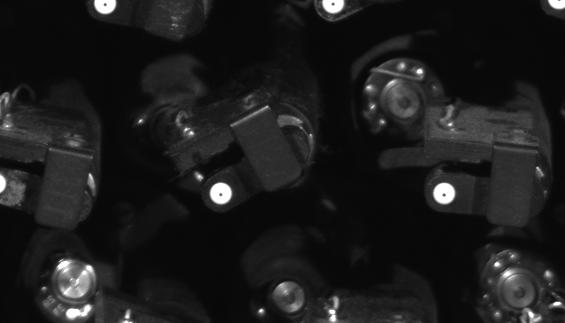fiber: (427, 179, 465, 209), (204, 179, 236, 208), (318, 1, 353, 18), (91, 1, 121, 19), (545, 1, 565, 16)
